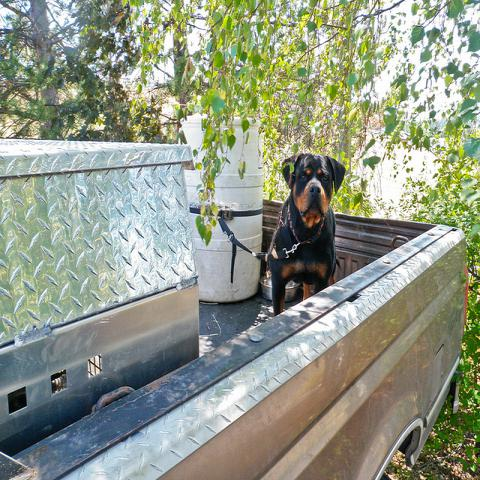truck: (0, 113, 464, 474)
